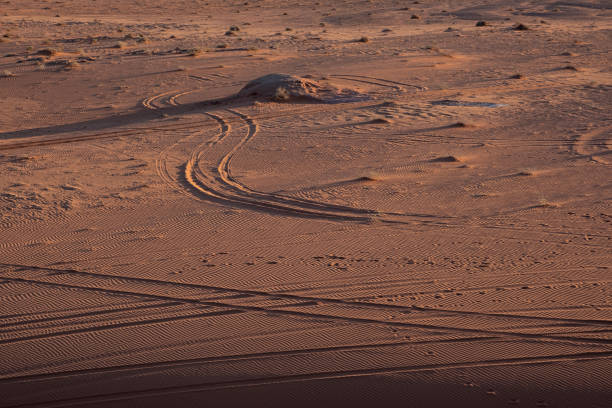vehicle_track: (1, 264, 611, 344), (9, 351, 611, 407), (184, 109, 435, 222)
